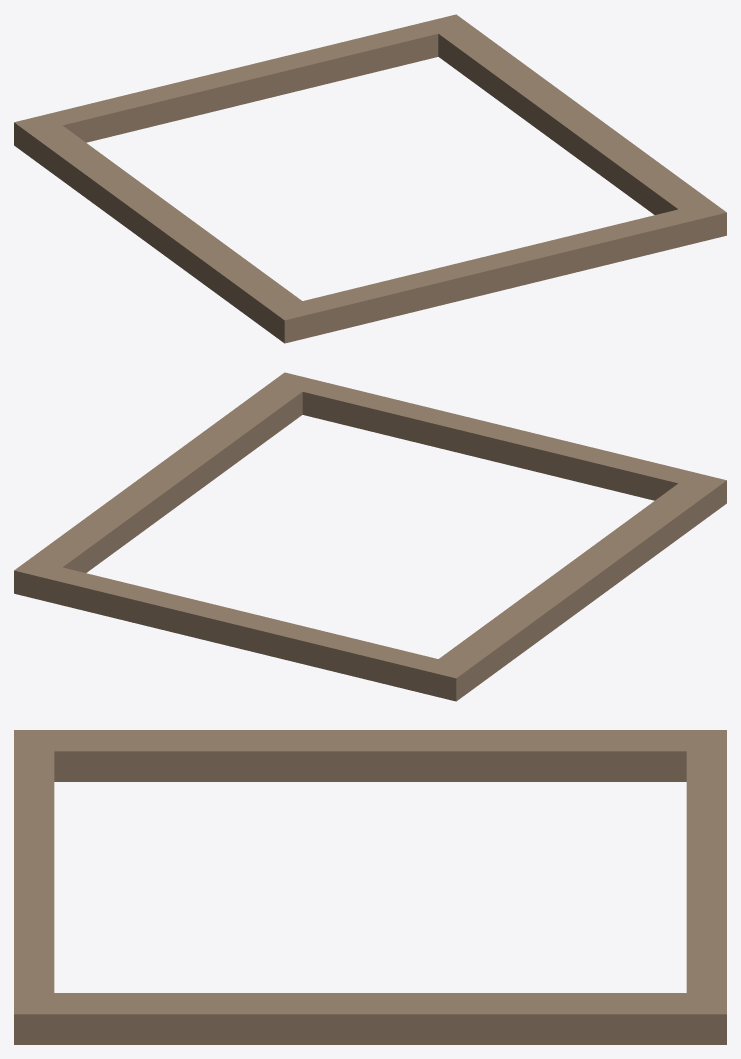
Rendered from wall_fusuma_frame.glb.
3 views of the same model, one above another, from view 1: azimuth 30°, elevation 25°; view 2: azimuth 150°, elevation 25°; view 3: azimuth 270°, elevation 25° (orthographic). The views are drawn at different scales.
Visible parts, largest first — view 1: world; view 2: world; view 3: world.
Boxes of the visible parts, bbox=[...] form: world: bbox=[14, 14, 726, 343]; world: bbox=[14, 372, 726, 701]; world: bbox=[14, 730, 726, 1044].
Bounding box in the file's own units: 2 × 0.1 × 2.12.
